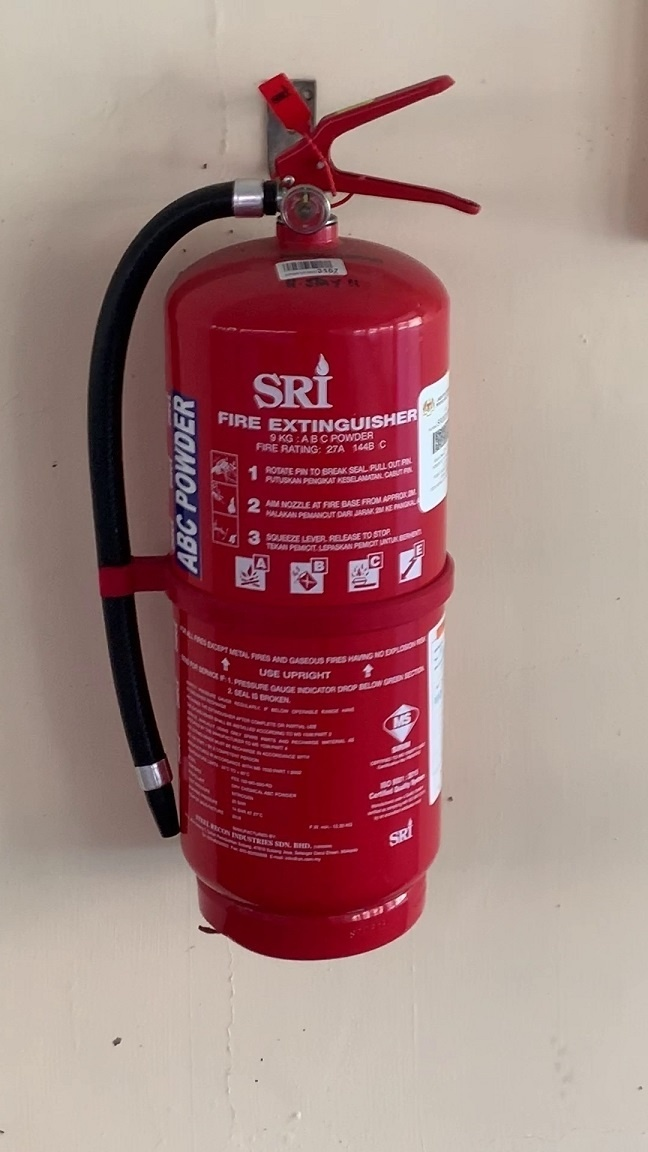fire_extinguisher: (87, 71, 482, 962)
